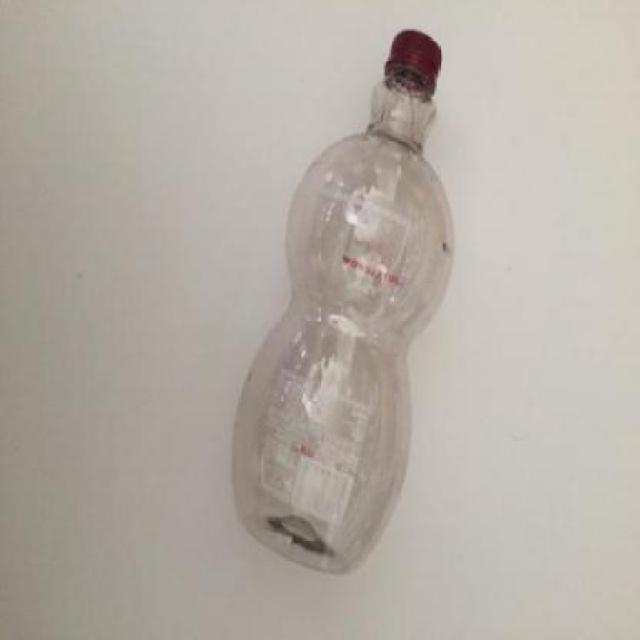PLASTIC: (233, 27, 455, 568), (388, 28, 442, 92)
